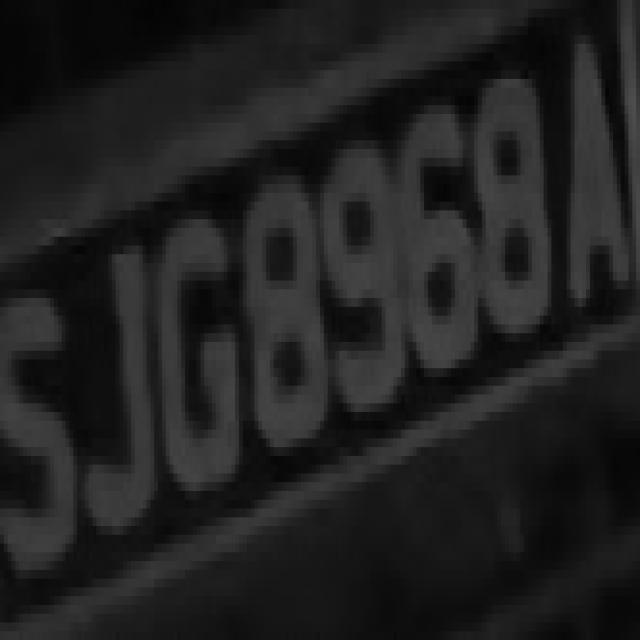6: (393, 96, 482, 412)
8: (236, 149, 336, 465), (467, 53, 555, 360)
9: (308, 96, 408, 438)
A: (552, 53, 632, 360)
G: (150, 202, 243, 508)
J: (73, 184, 158, 561)
S: (8, 254, 88, 526)
